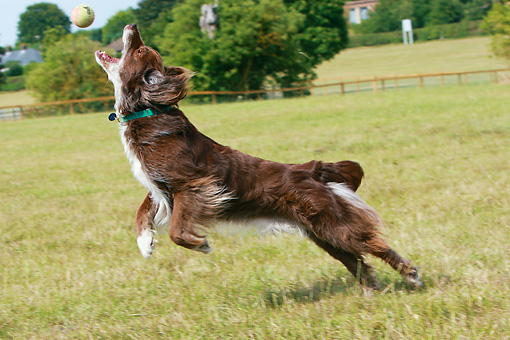tennis_ball: (69, 3, 96, 30)
